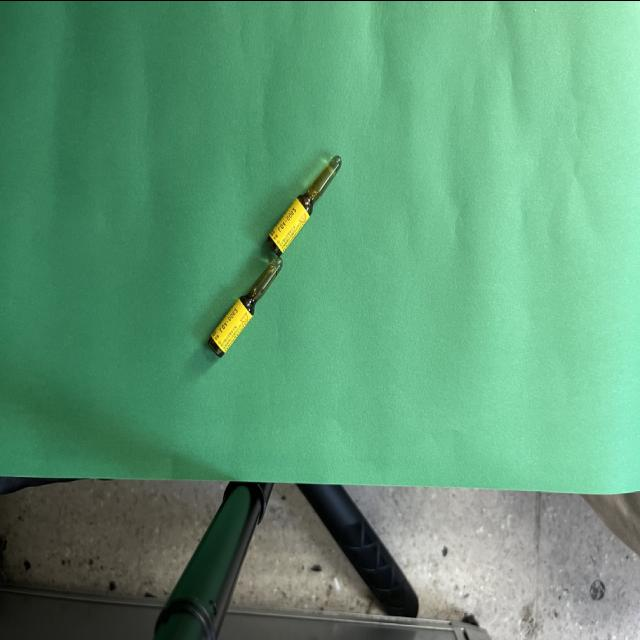Ampoules: (209, 155, 341, 356)
